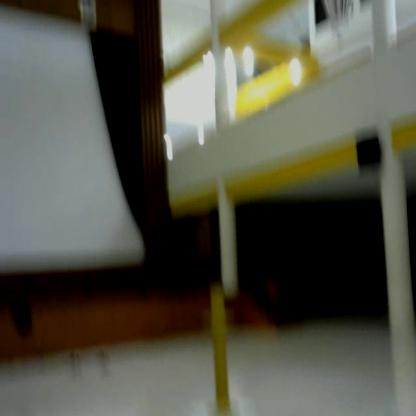pole: (203, 280, 244, 416)
